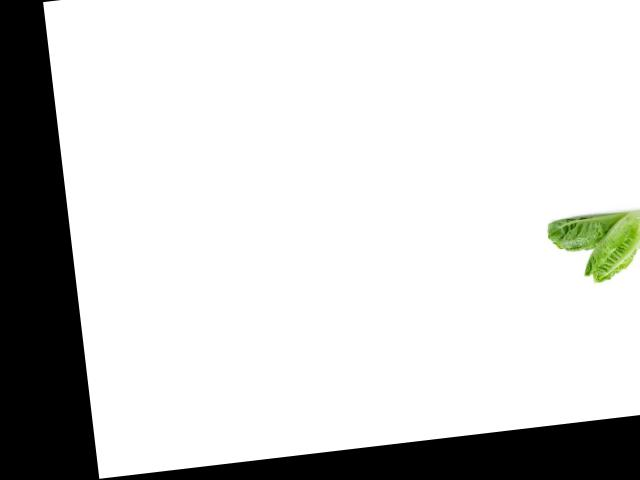lettuce: (538, 203, 634, 257)
